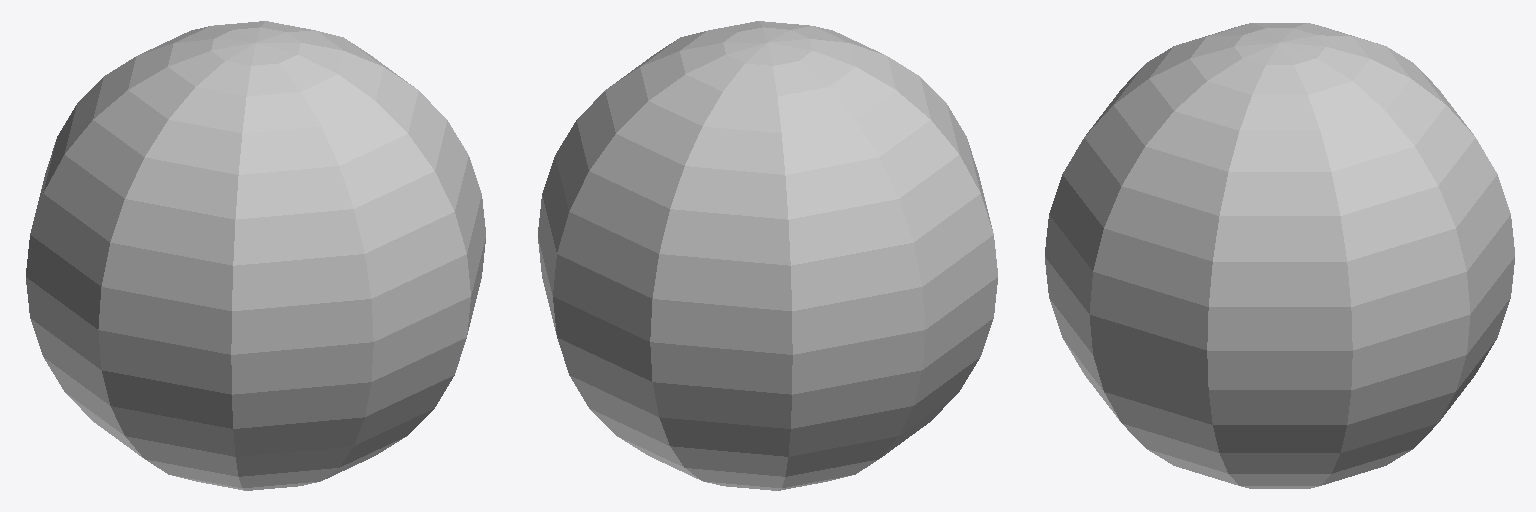
Rendered from Cannonball.obj.
3 renders of one model, left to right at view 1: azimuth 30°, elevation 25°; view 2: azimuth 150°, elevation 25°; view 3: azimuth 270°, elevation 25°, orthographic.
Visible parts, largest first — view 1: Cannonball_Sphere; view 2: Cannonball_Sphere; view 3: Cannonball_Sphere.
Boxes of the visible parts, x1,y1,x2,y2 form: Cannonball_Sphere: [26, 21, 485, 490]; Cannonball_Sphere: [538, 21, 997, 490]; Cannonball_Sphere: [1045, 23, 1514, 488].
Size of the model in its own units: 1.06 by 1.12 by 1.12.